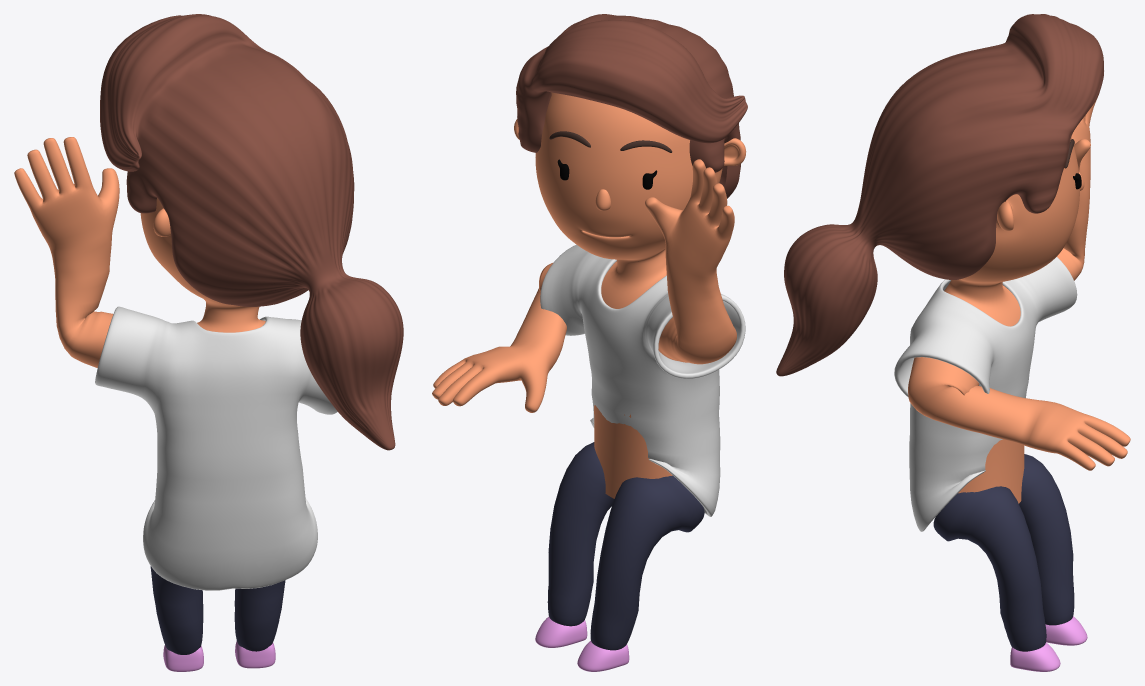
The model's file is graphiste.gltf.
3 views of the same model, side by side, from view 1: azimuth 30°, elevation 25°; view 2: azimuth 150°, elevation 25°; view 3: azimuth 270°, elevation 25° (orthographic). The views are drawn at different scales.
Parts seen in each view (by area): view 1: Hair_9, T-shirt.001, body.005, head.001, Cube.040, Cube.041, Cube.042, Cube.043; view 2: T-shirt.001, body.005, Hair_9, head.001, Cube.040, Cube.041, Cube.042, Cube.043, Eyebrow.006; view 3: Hair_9, T-shirt.001, body.005, Cube.041, head.001, Cube.040, Cube.042, Cube.043.
Part boxes in pixels (<box>): Hair_9: <box>100,14,403,450</box>; T-shirt.001: <box>95,306,337,590</box>; body.005: <box>14,137,119,367</box>; head.001: <box>140,198,265,332</box>; Cube.040: <box>150,566,203,654</box>; Cube.041: <box>234,580,285,651</box>; Cube.042: <box>235,641,275,668</box>; Cube.043: <box>163,645,203,671</box>; T-shirt.001: <box>540,245,745,516</box>; body.005: <box>432,159,736,498</box>; Hair_9: <box>516,14,747,198</box>; head.001: <box>514,92,746,308</box>; Cube.040: <box>590,475,704,650</box>; Cube.041: <box>547,442,614,626</box>; Cube.042: <box>535,616,587,647</box>; Cube.043: <box>577,640,629,671</box>; Eyebrow.006: <box>549,131,672,152</box>; Hair_9: <box>776,14,1103,376</box>; T-shirt.001: <box>894,257,1077,531</box>; body.005: <box>908,94,1130,503</box>; Cube.041: <box>933,486,1046,651</box>; head.001: <box>944,137,1079,326</box>; Cube.040: <box>1019,454,1074,625</box>; Cube.042: <box>1010,642,1060,671</box>; Cube.043: <box>1045,616,1087,645</box>.
Bounding box in the file's own units: 6.82 × 13.81 × 7.22.
